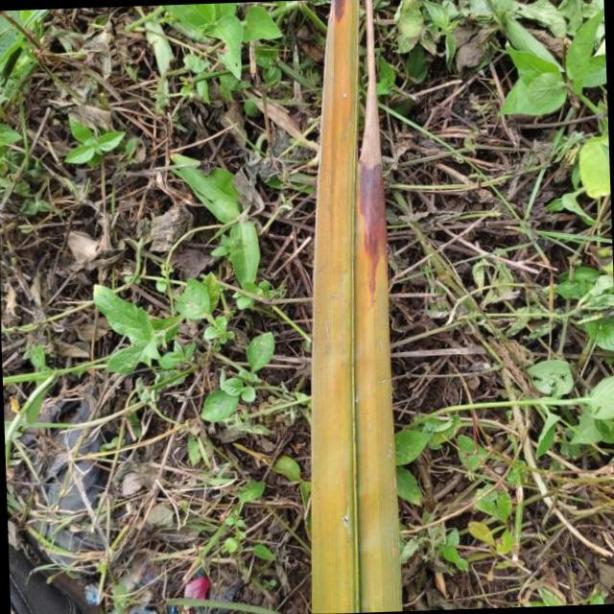Megnesium: (306, 0, 405, 614)
